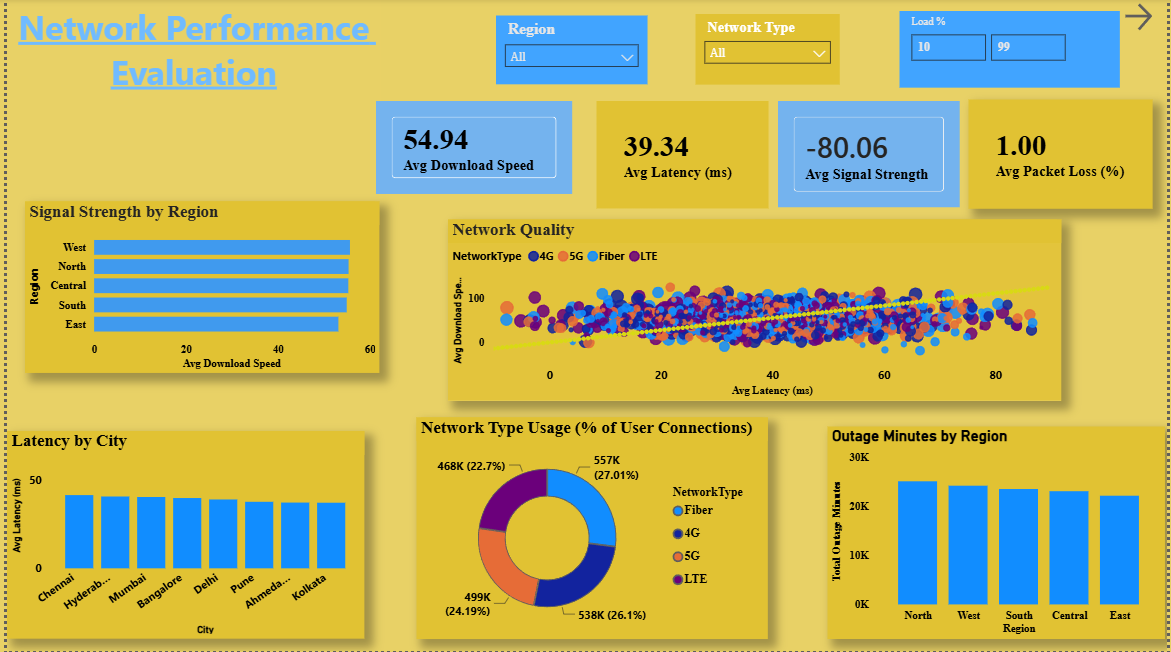

The dashboard page shown, as its layout file describes it:
{"tool":"powerbi","page":{"name":"Network Performance","canvas":[1280,720],"ordinal":4},"visuals":[{"type":"cardVisual","fields":{"Data":["network_performance.Avg Download Speed"]},"box":[407.5,112.6,217,102.7],"z":0},{"type":"cardVisual","fields":{"Data":["network_performance.Avg Latency (ms)"]},"box":[650.8,111.9,189.8,118.6],"z":1000},{"type":"cardVisual","fields":{"Data":["network_performance.Avg Signal Strength"]},"box":[851.4,112.6,200.4,117.6],"z":2000},{"type":"cardVisual","fields":{"Data":["network_performance.Avg Packet Loss (%)"]},"box":[1062.1,110.3,203.4,120.7],"z":3000},{"type":"clusteredBarChart","title":"Signal Strength by Region","fields":{"Y":["network_performance.Avg Download Speed"],"Category":["network_performance.Region"]},"box":[20.7,224.1,391.4,189.7],"z":4000},{"type":"clusteredColumnChart","title":"Latency by City","fields":{"Category":["network_performance.City"],"Y":["network_performance.Avg Latency (ms)"]},"box":[0,477.6,394.8,229.3],"z":5000},{"type":"scatterChart","title":"Network Quality","fields":{"X":["network_performance.Avg Latency (ms)"],"Y":["network_performance.Avg Download Speed"],"Size":["Sum(network_performance.UserConnections)"],"Series":["network_performance.NetworkType"],"Category":["network_performance.TowerID"]},"box":[486.2,243.1,677.6,200],"z":6000},{"type":"columnChart","title":"Outage Minutes by Region","fields":{"Category":["network_performance.Region"],"Y":["network_performance.Total Outage Minutes"]},"box":[906.9,472.4,372.4,234.5],"z":7000},{"type":"donutChart","title":"Network Type Usage (% of User Connections)","fields":{"Category":["network_performance.NetworkType"],"Y":["Sum(network_performance.UserConnections)"]},"box":[451.7,462.1,387.9,244.8],"z":8000},{"type":"slicer","fields":{"Values":["network_performance.Region"]},"box":[540,18.2,167.3,76.2],"z":9000},{"type":"slicer","fields":{"Values":["network_performance.NetworkType"]},"box":[760.3,16.6,159,77.9],"z":10000},{"type":"slicer","fields":{"Values":["network_performance.LoadPercentage"]},"box":[985.6,13.3,243.5,84.5],"z":11000},{"type":"textbox","box":[0,0,412.5,112.6],"z":12000},{"type":"actionButton","box":[1229.3,0,50,39.7],"z":13000}]}

Visuals, with their boxes in screenshot pixels (x1, y1, x2, y2), scaled from the page's 1280x720 canvas onto the 1171x652 screenshot:
cardVisual - network_performance.Avg Download Speed: pyautogui.locateOnScreen(373, 102, 571, 195)
cardVisual - network_performance.Avg Latency (ms): pyautogui.locateOnScreen(595, 101, 769, 209)
cardVisual - network_performance.Avg Signal Strength: pyautogui.locateOnScreen(779, 102, 962, 208)
cardVisual - network_performance.Avg Packet Loss (%): pyautogui.locateOnScreen(972, 100, 1158, 209)
"Signal Strength by Region" clusteredBarChart: pyautogui.locateOnScreen(19, 203, 377, 375)
"Latency by City" clusteredColumnChart: pyautogui.locateOnScreen(0, 432, 361, 640)
"Network Quality" scatterChart: pyautogui.locateOnScreen(445, 220, 1065, 401)
"Outage Minutes by Region" columnChart: pyautogui.locateOnScreen(830, 428, 1170, 640)
"Network Type Usage (% of User Connections)" donutChart: pyautogui.locateOnScreen(413, 418, 768, 640)
slicer - network_performance.Region: pyautogui.locateOnScreen(494, 16, 647, 85)
slicer - network_performance.NetworkType: pyautogui.locateOnScreen(696, 15, 841, 86)
slicer - network_performance.LoadPercentage: pyautogui.locateOnScreen(902, 12, 1124, 89)
textbox: pyautogui.locateOnScreen(0, 0, 377, 102)
actionButton: pyautogui.locateOnScreen(1125, 0, 1170, 36)
